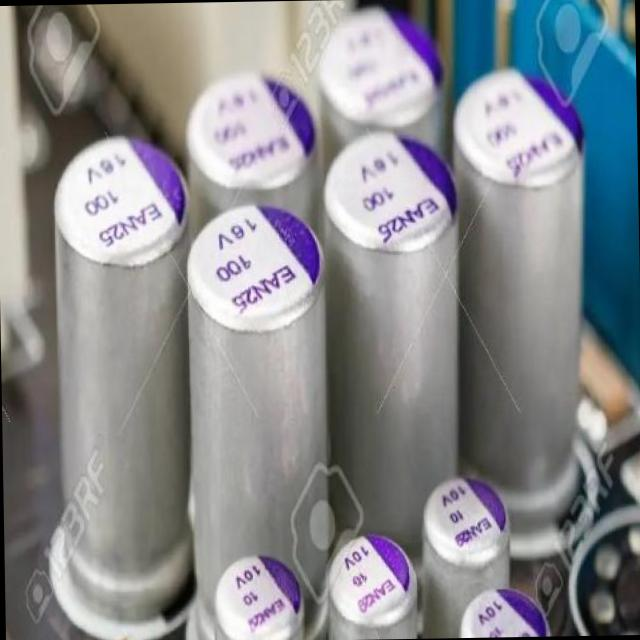capacitor: (42, 118, 196, 638), (450, 53, 610, 528), (185, 178, 333, 572), (322, 121, 466, 485), (182, 45, 315, 209), (316, 2, 446, 139), (417, 462, 515, 590), (324, 518, 421, 640), (198, 544, 308, 640), (453, 578, 552, 638)
